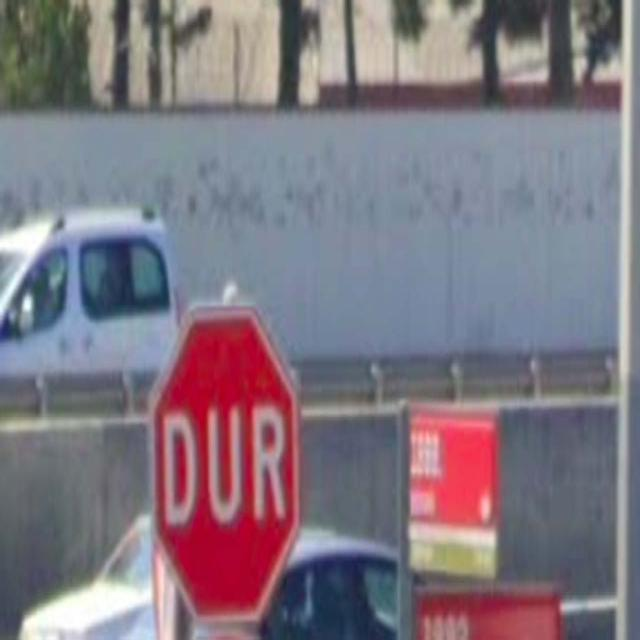dur: (151, 302, 299, 620)
